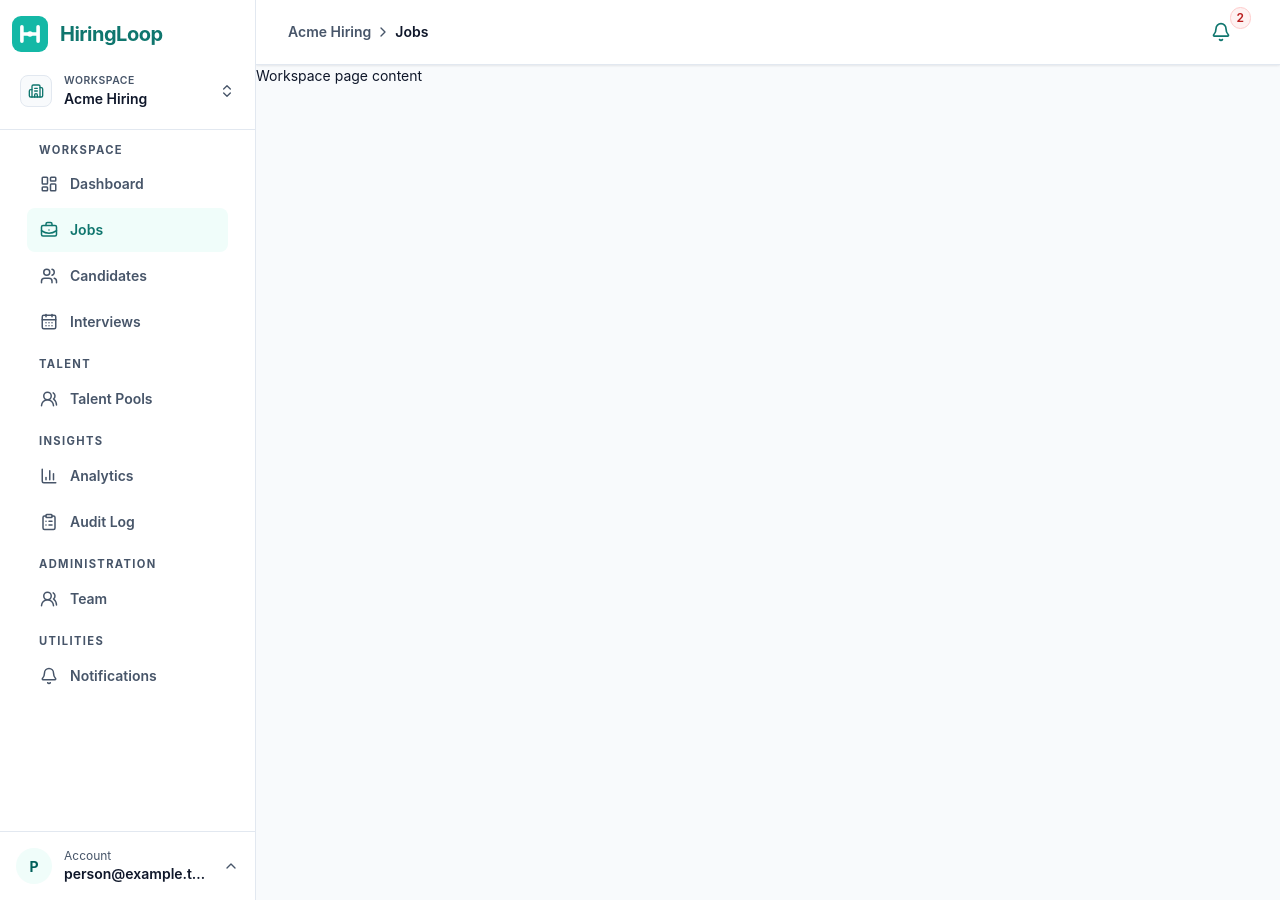
Test: authenticated application shell › switches workspaces from the sidebar without retaining old scoped links
The image size is (1280, 900).
Click the button with aria-label "Switch workspace:" at (128,91), box [12, 65, 243, 117]
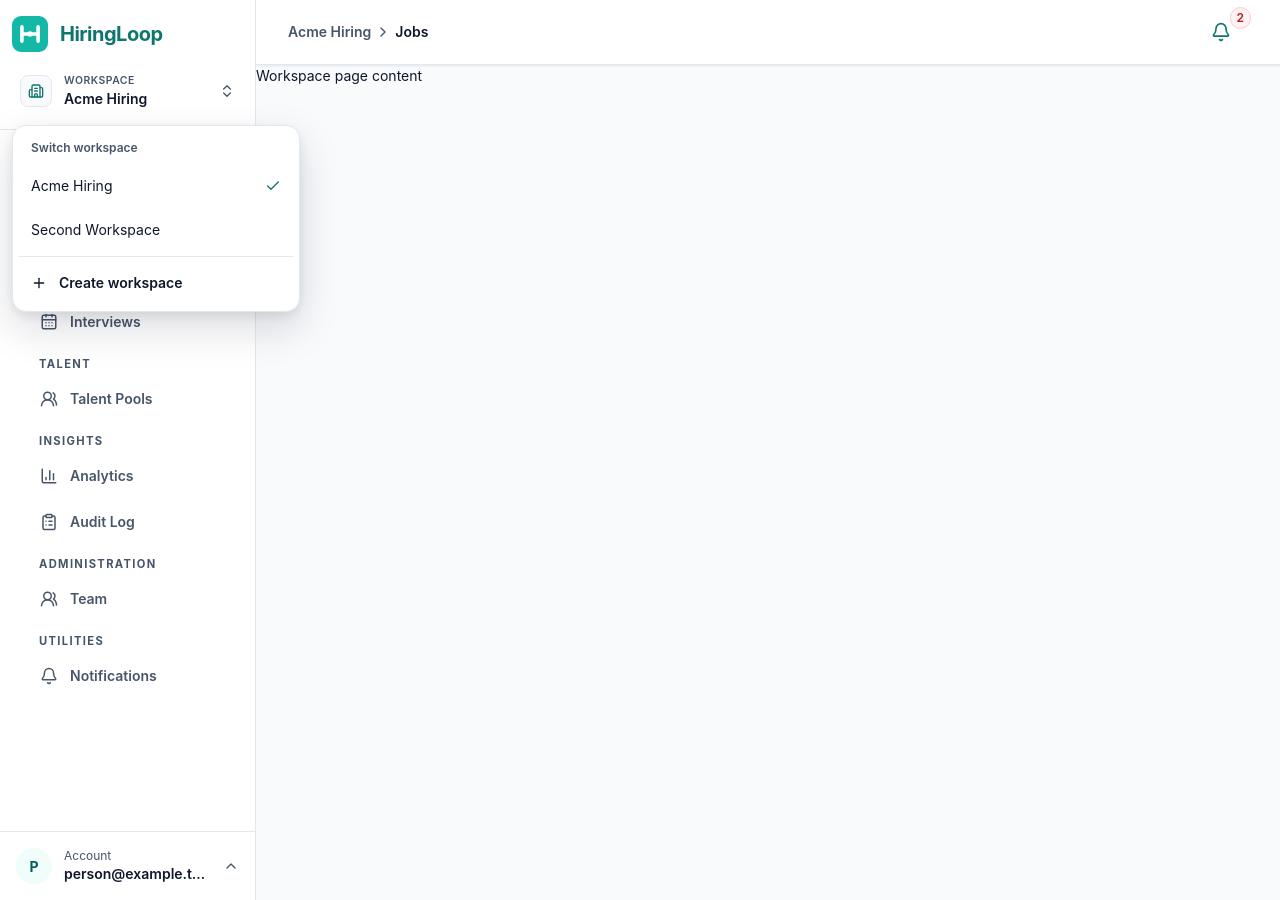
Click the menu item "Second Workspace" at (96,230), box [31, 221, 160, 238]
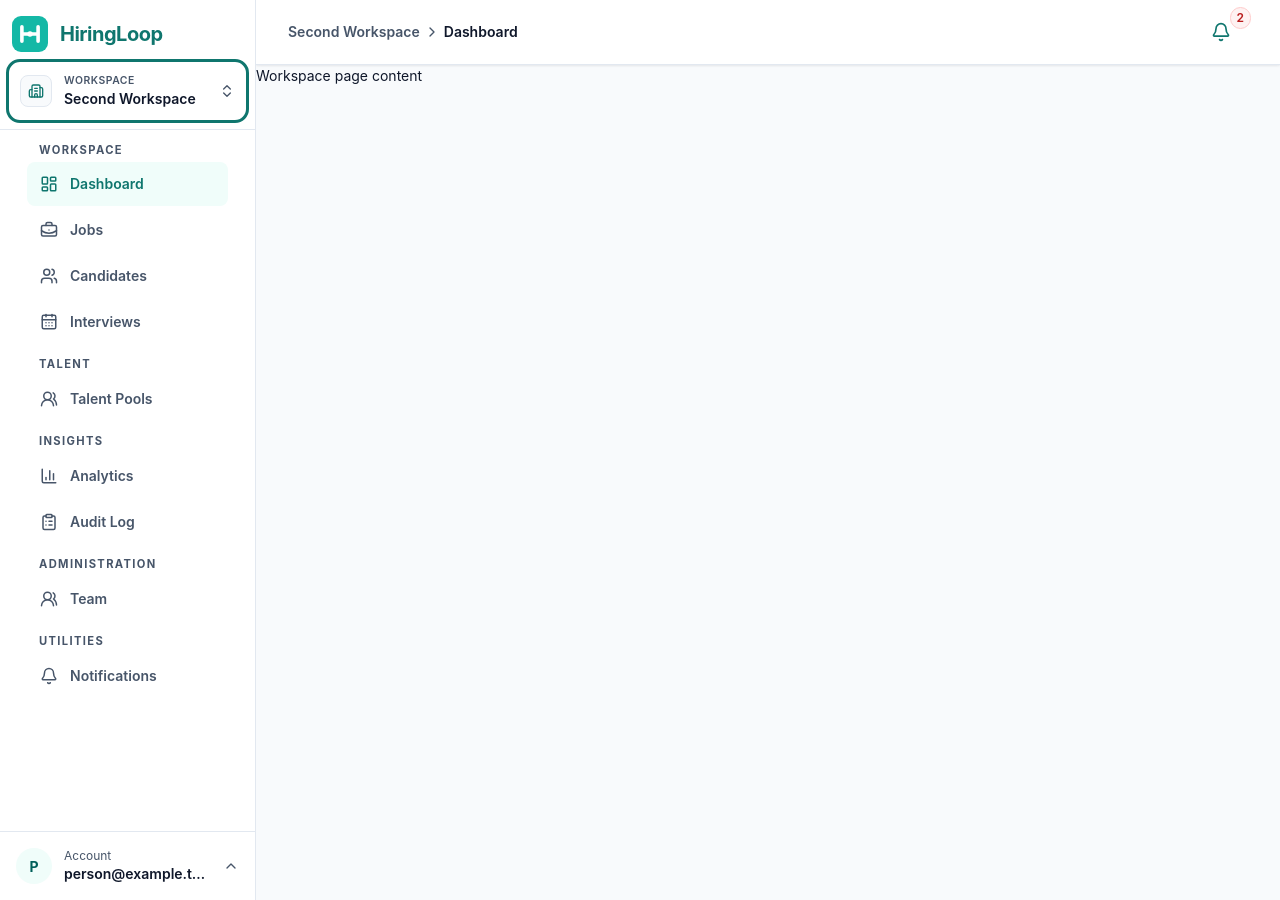
Expected: the link "Second Workspace" is shown, [288, 22, 420, 42]
